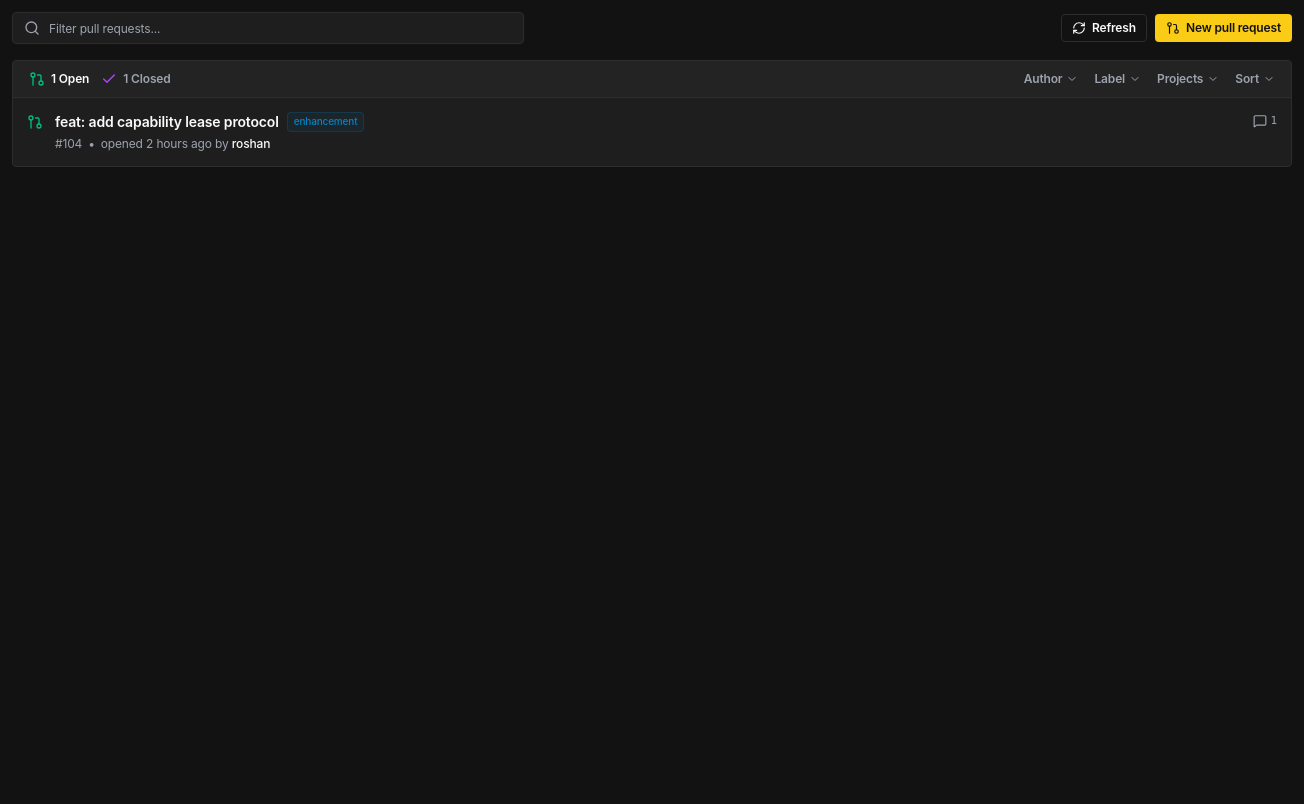
it: PullRequestsView Component › displays PR details with canonical two-column layout and UnderlineNav
This screenshot has width=1304, height=804.
Step 1. Click the text "feat: add capability lease protocol" → (167, 122), box [55,112,279,132]
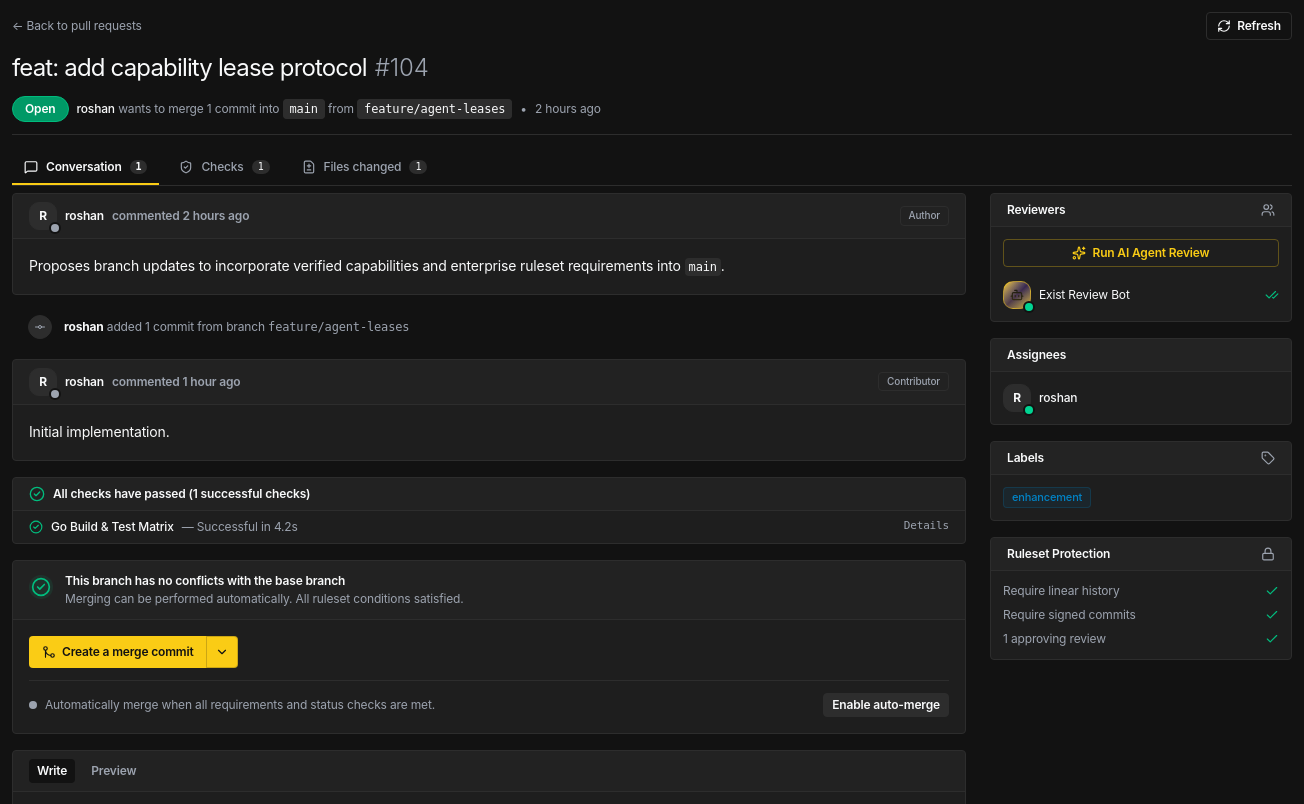
expect the text "wants to merge 1 commit into" is shown: met, box [115,101,279,116]
expect the button "Conversation 1" is shown: met, box [12,151,159,185]
expect the button "Checks 1" is shown: met, box [167,151,282,185]
